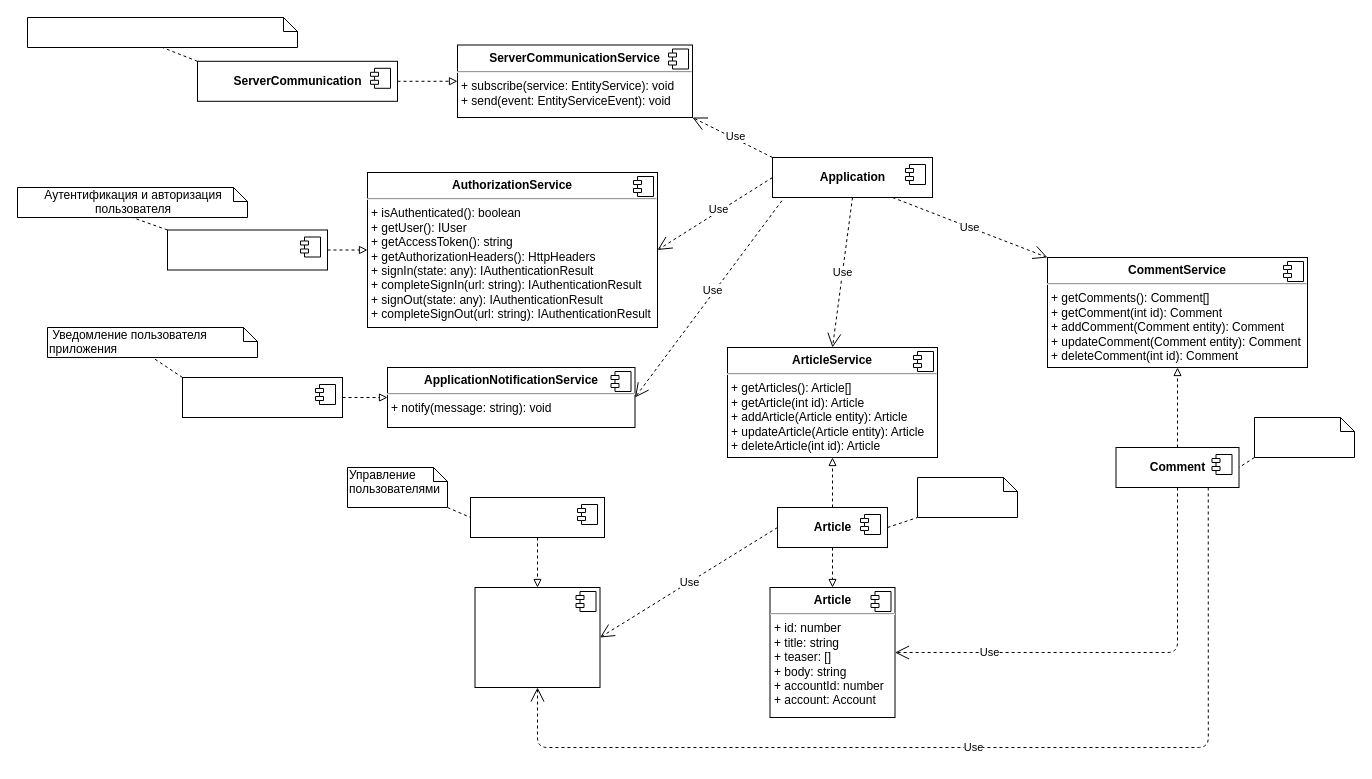
This 1372x779 diagram has some shape labels left out. Each missing label, with the centre of its shape:
"Account" goes at point (537, 517).
"Account + id: number + login: string + password: string + salt: string" goes at point (537, 637).
"Authorization" goes at point (247, 249).
"Notification" goes at point (262, 397).
"Взаимодействия с сервером с целью оповещения клиентов системы" goes at point (162, 32).
"У правление комментариями" goes at point (1304, 437).
"Управление статьями" goes at point (967, 497).
